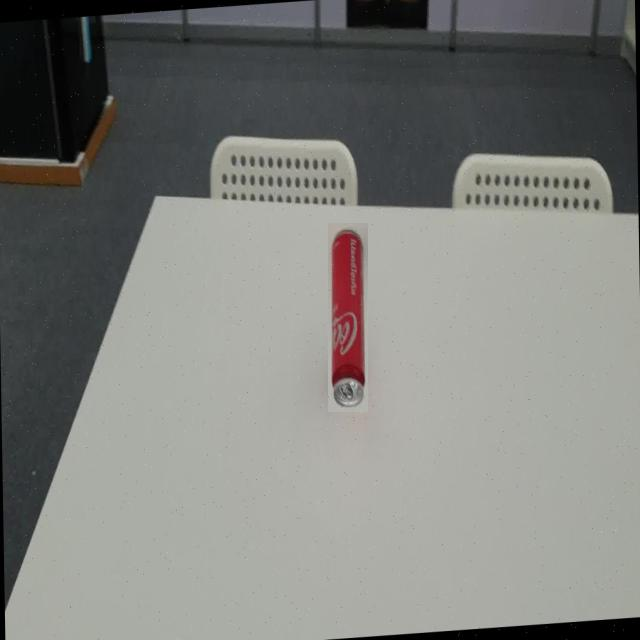coca-cola: (328, 223, 368, 412)
